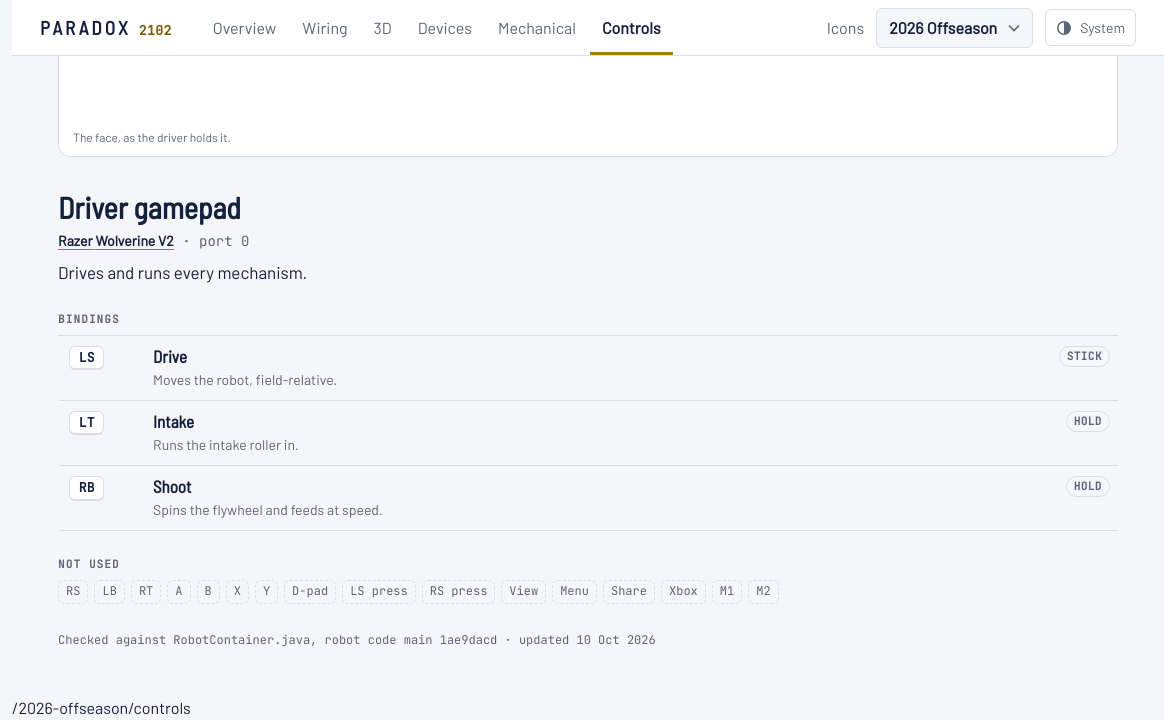
it: a row whose input is not in this view still selects without error
The image size is (1164, 720).
(page scrolled)
Step 1. Click the button "LT Intake Runs the intake roller in. Hold" → x=87, y=423, box x1=58 y1=401 x2=1118 y2=466
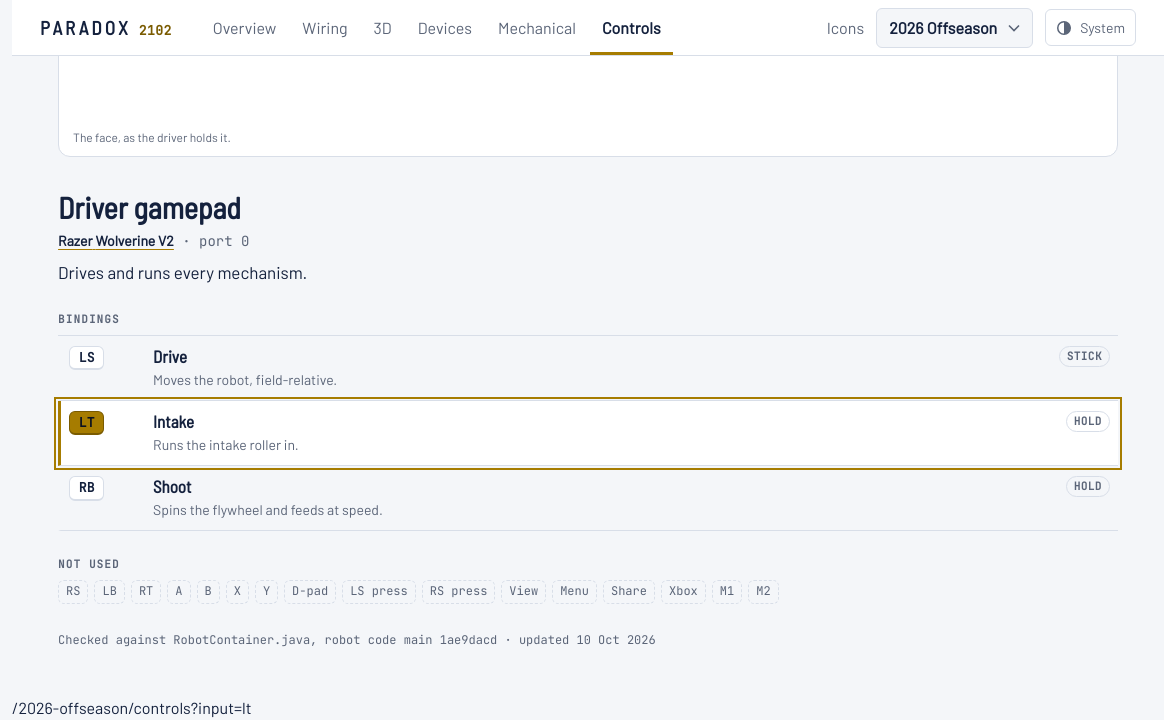
expect the text with test id "where" reads "/2026-offseason/controls?input=lt": met, box x1=12 y1=698 x2=252 y2=717
